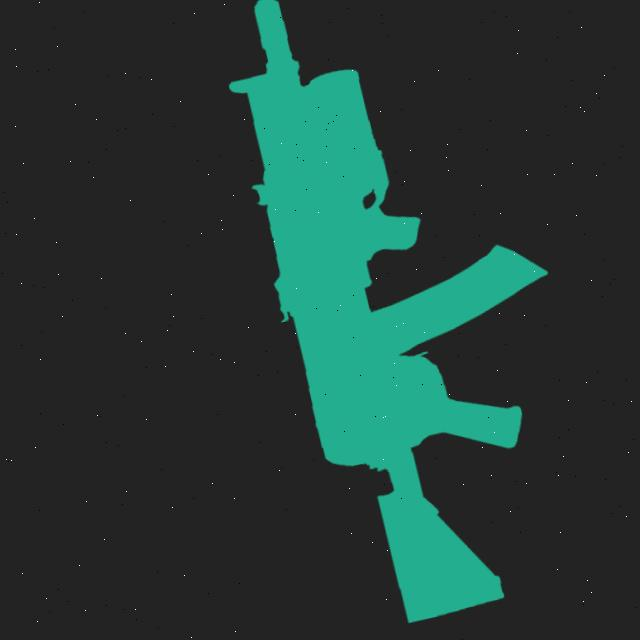firearm: (204, 0, 614, 635)
